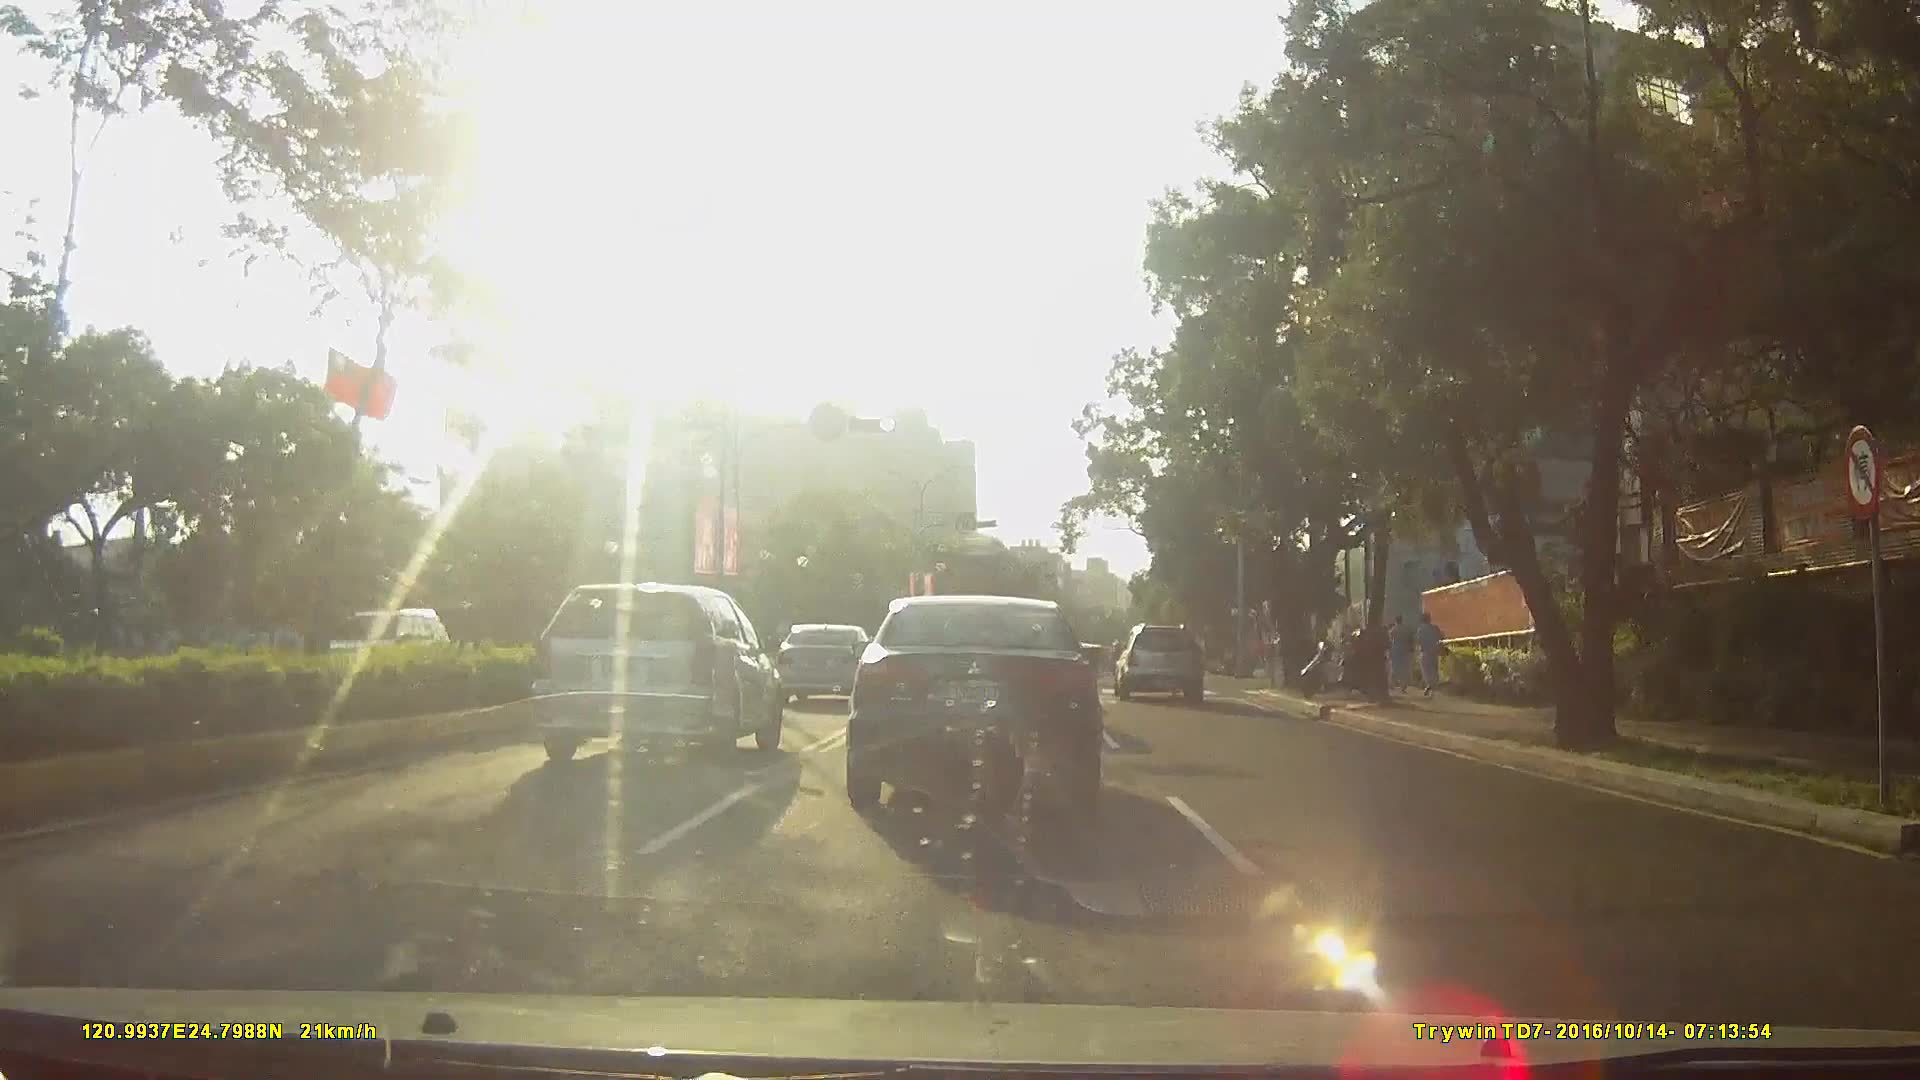pedestrian: (1413, 617, 1449, 705), (1389, 616, 1415, 694)
vehicle: (841, 595, 1103, 821), (524, 582, 782, 766), (320, 607, 461, 705), (774, 625, 877, 715), (1111, 623, 1213, 706)
